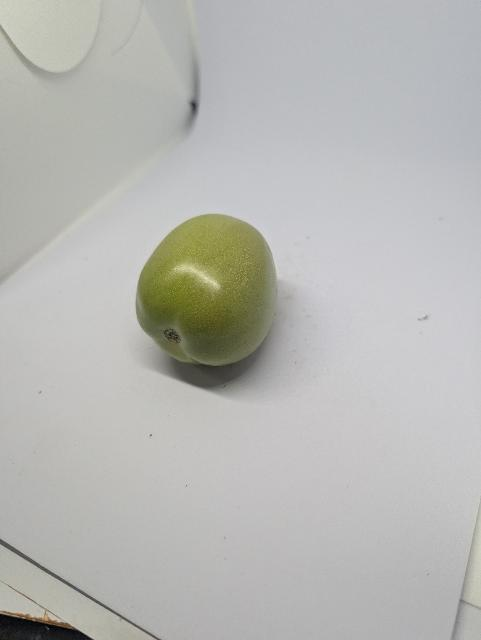green: (129, 205, 290, 384)
